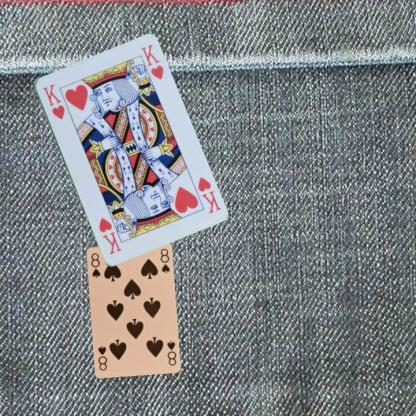8s: (164, 338, 177, 367), (89, 250, 101, 279)
Kh: (195, 174, 222, 215), (40, 81, 66, 121)
